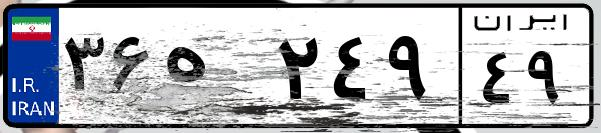2: (270, 28, 330, 110)
3: (57, 26, 110, 100)
4: (330, 28, 385, 110), (475, 38, 525, 113)
6: (110, 28, 158, 98)
9: (385, 28, 445, 110), (525, 38, 570, 115)
ه: (158, 20, 270, 120)
